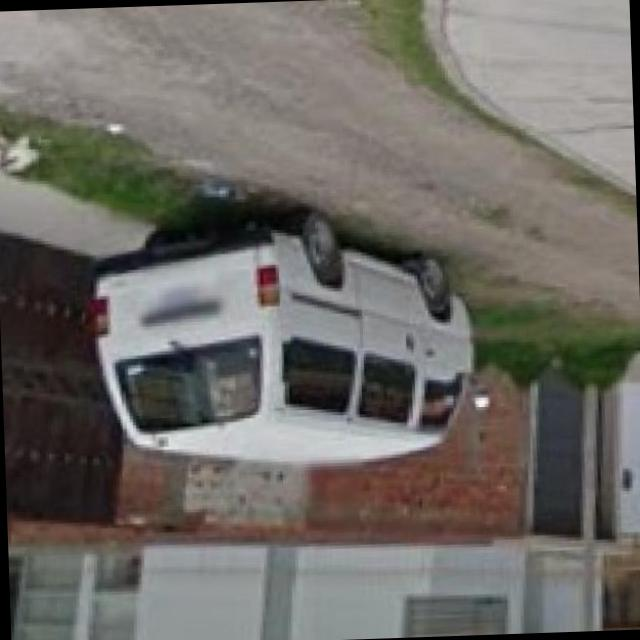car: (88, 206, 480, 482)
